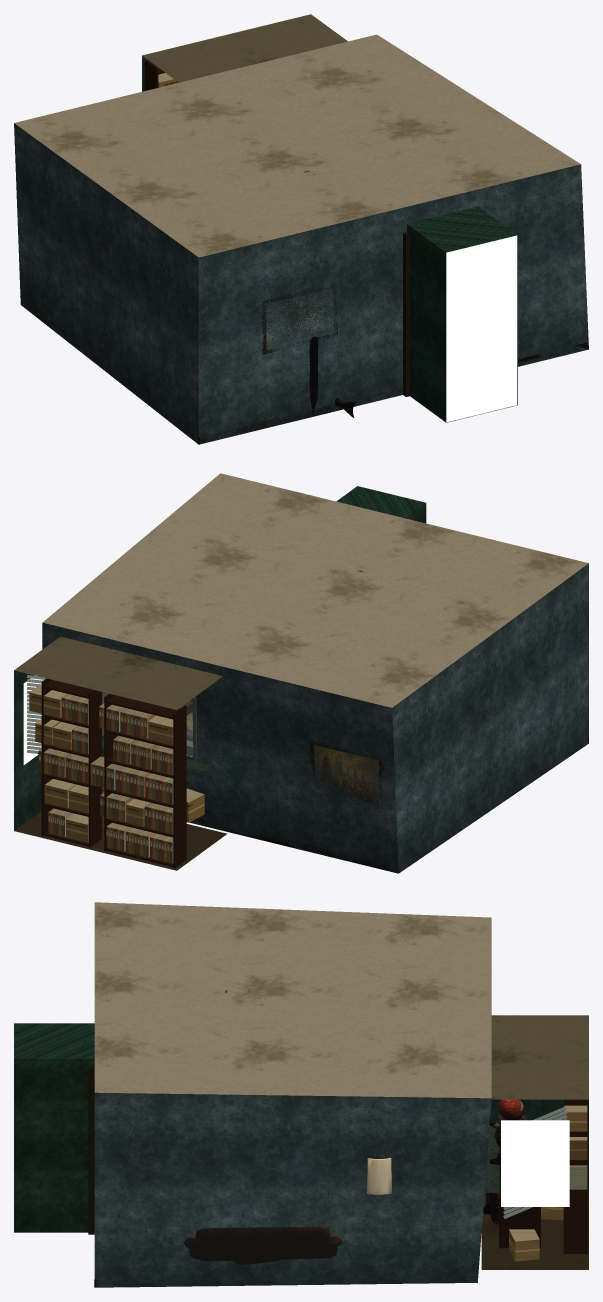
Rendered from warteraum.glb.
The picture shows the model from 3 angles, top to bottom: view 1: azimuth 30°, elevation 25°; view 2: azimuth 150°, elevation 25°; view 3: azimuth 270°, elevation 25°; orthographic projection. The views are drawn at different scales.
Visible parts, largest first — view 1: S_wr_wall, S_wr_ceil, S_wr_emit, S_wr_wood, S_wr_fig_taucher; view 2: S_wr_ceil, S_wr_wall, S_wr_paper, S_wr_wood, S_wr_paint, S_wr_metal, S_wr_emit; view 3: S_wr_wall, S_wr_ceil, S_wr_emit, S_wr_sofa, S_wr_wood, S_wr_paper, S_wr_shade, S_wr_crackle, S_wr_fig_frl, frl_head.
Part boxes in pixels (bbox=[...]): S_wr_wall: bbox=[14, 56, 588, 444]; S_wr_ceil: bbox=[14, 14, 580, 257]; S_wr_emit: bbox=[446, 235, 517, 422]; S_wr_wood: bbox=[20, 60, 588, 444]; S_wr_fig_taucher: bbox=[309, 336, 355, 417]; S_wr_ceil: bbox=[14, 473, 588, 870]; S_wr_wall: bbox=[14, 486, 588, 873]; S_wr_paper: bbox=[29, 684, 204, 863]; S_wr_wood: bbox=[41, 638, 588, 872]; S_wr_paint: bbox=[314, 642, 550, 804]; S_wr_metal: bbox=[27, 570, 367, 758]; S_wr_emit: bbox=[23, 675, 43, 764]; S_wr_wall: bbox=[14, 1023, 588, 1287]; S_wr_ceil: bbox=[94, 902, 588, 1269]; S_wr_emit: bbox=[501, 1120, 569, 1206]; S_wr_sofa: bbox=[184, 1226, 342, 1264]; S_wr_wood: bbox=[76, 1041, 588, 1287]; S_wr_paper: bbox=[508, 1105, 587, 1261]; S_wr_shade: bbox=[367, 1158, 391, 1194]; S_wr_crackle: bbox=[484, 1121, 500, 1193]; S_wr_fig_frl: bbox=[483, 1114, 529, 1224]; frl_head: bbox=[496, 1099, 524, 1131].
Bounding box in the file's own units: 6 × 2.75 × 7.5.
29 materials, 24 textured.
